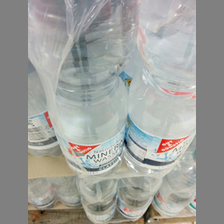water: (29, 1, 124, 172), (127, 1, 196, 173)
